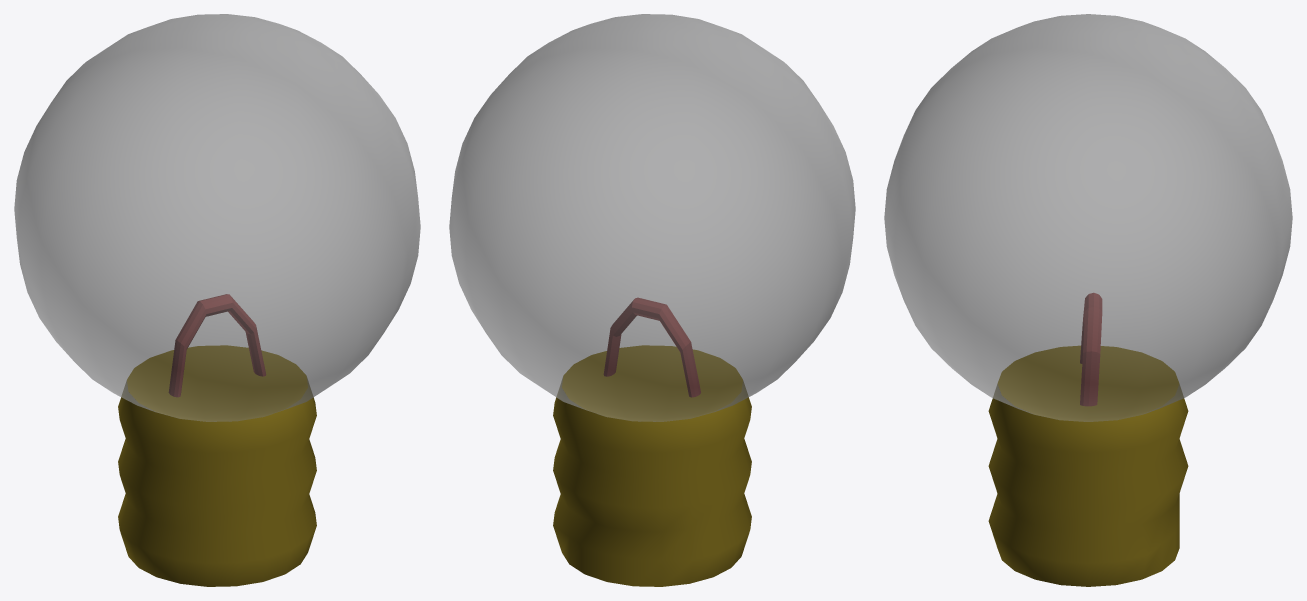
Rendered from md_lightbulb.fbx.
3 views of the same model, side by side, from view 1: azimuth 30°, elevation 25°; view 2: azimuth 150°, elevation 25°; view 3: azimuth 270°, elevation 25° (orthographic).
Parts seen in each view (by area): view 1: md_lightbulb; view 2: md_lightbulb; view 3: md_lightbulb.
Part boxes in pixels (x1,y1,x2,y2): md_lightbulb: (14, 14, 420, 586); md_lightbulb: (449, 14, 855, 586); md_lightbulb: (884, 14, 1292, 586).
Bounding box in the file's own units: 4.49 × 6.25 × 4.49.
